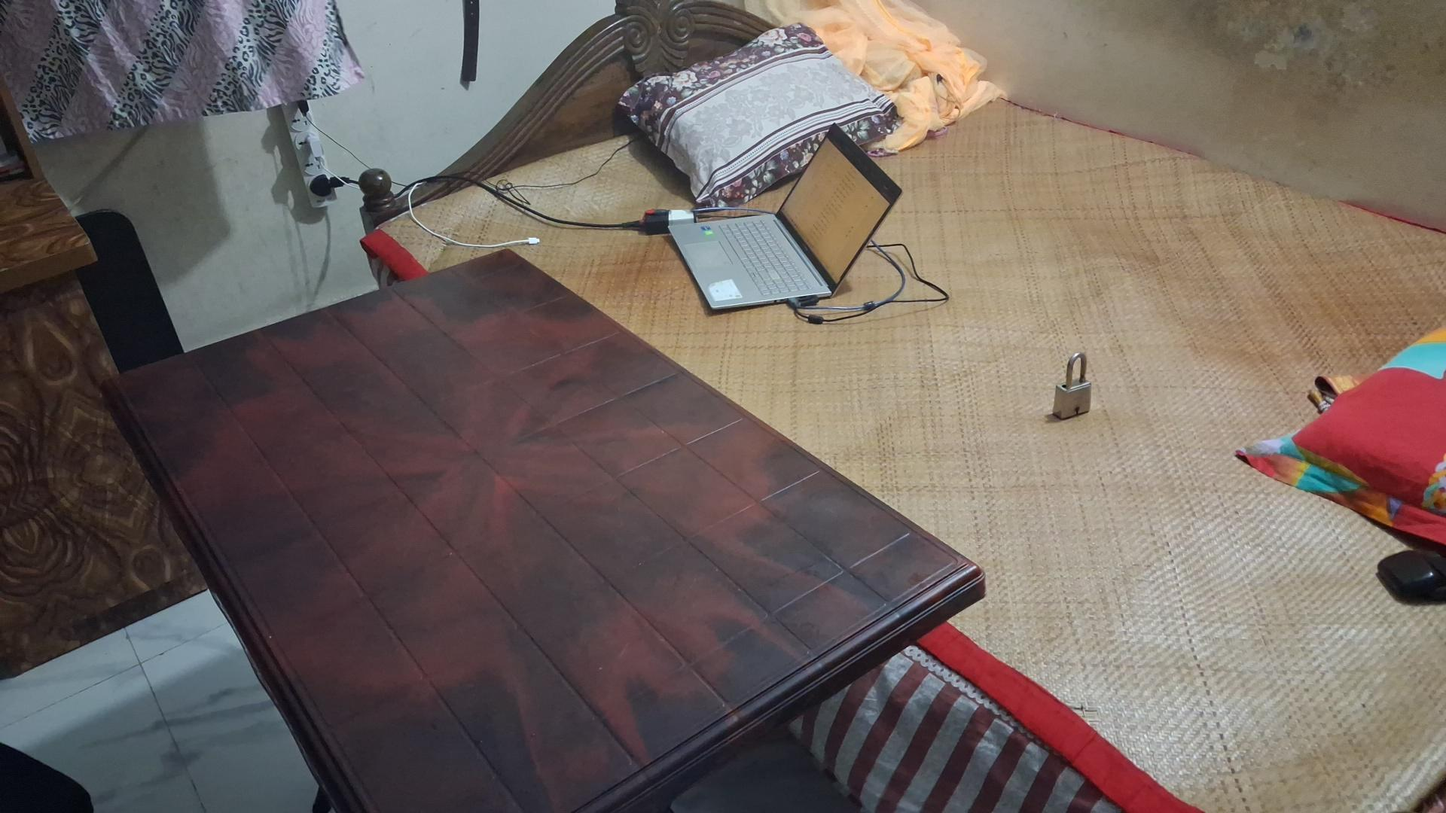Laptop: (666, 125, 903, 313)
Lock: (1055, 350, 1093, 421)
Pillow: (618, 21, 901, 208), (603, 113, 616, 115)
Table: (98, 248, 984, 813)
